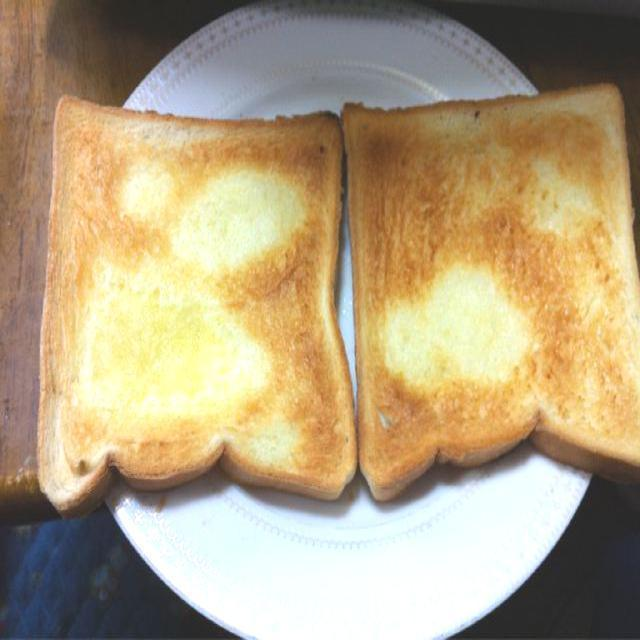toast: (40, 82, 356, 512)
